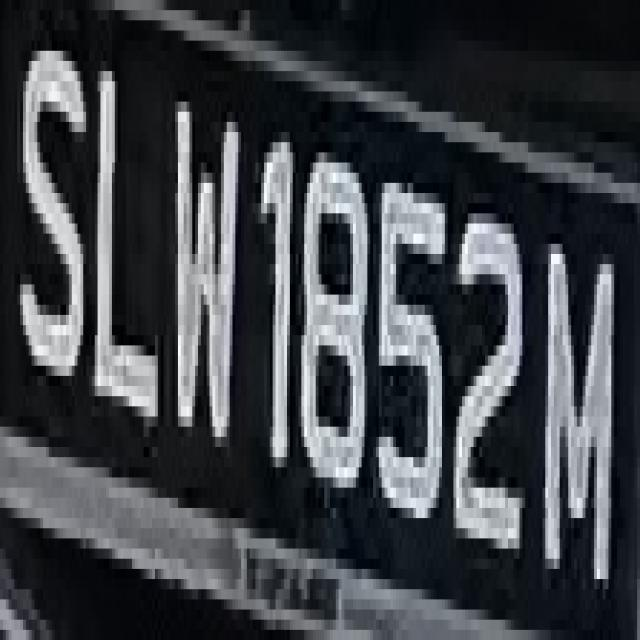1: (258, 112, 302, 498)
2: (454, 203, 528, 549)
5: (373, 152, 454, 548)
8: (293, 101, 373, 538)
L: (94, 40, 164, 478)
M: (528, 203, 617, 589)
S: (11, 31, 89, 407)
W: (172, 61, 244, 477)
